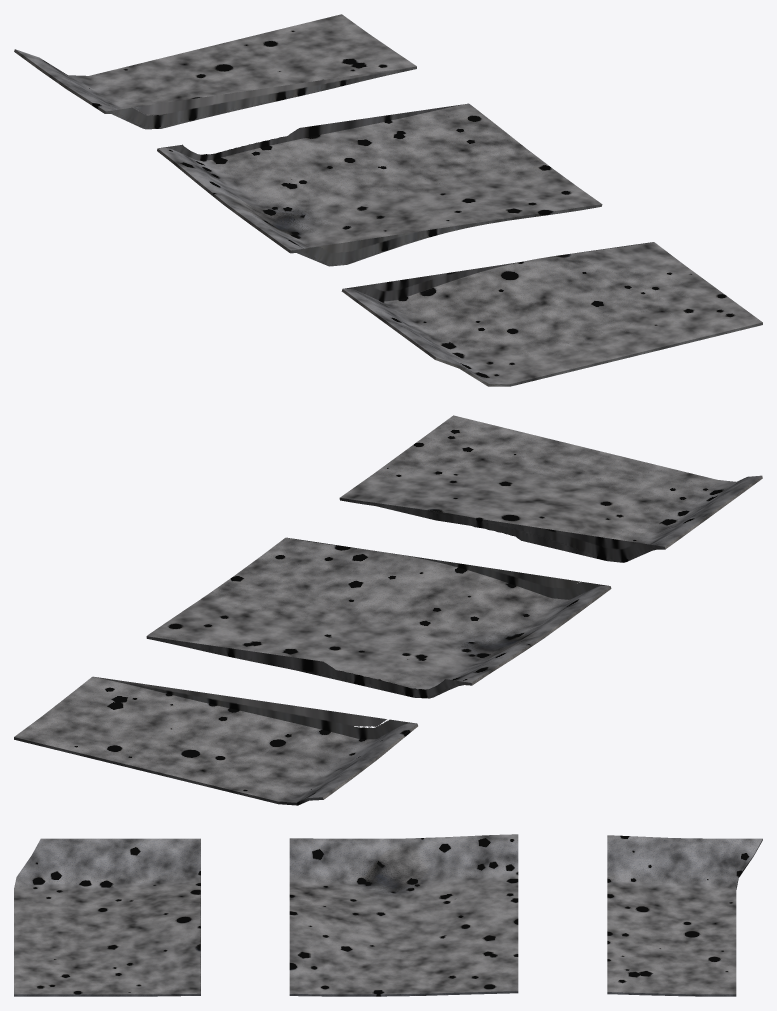
The model's file is Map (Game Jam).fbx.
3 views of the same model, one above another, from view 1: azimuth 30°, elevation 25°; view 2: azimuth 150°, elevation 25°; view 3: azimuth 270°, elevation 25° (orthographic). The views are drawn at different scales.
Parts seen in each view (by area): view 1: Plane; view 2: Plane; view 3: Plane.
Part boxes in pixels (<box>): Plane: <box>14,14,762,386</box>; Plane: <box>14,415,762,805</box>; Plane: <box>14,834,762,996</box>.
Bounding box in the file's own units: 3997 × 457 × 9679.
